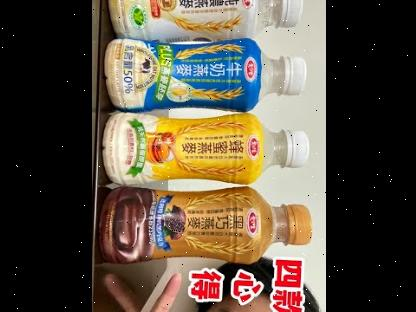Plastic Bottle: (98, 187, 310, 264), (104, 38, 306, 112), (102, 113, 308, 184), (108, 0, 302, 42)
